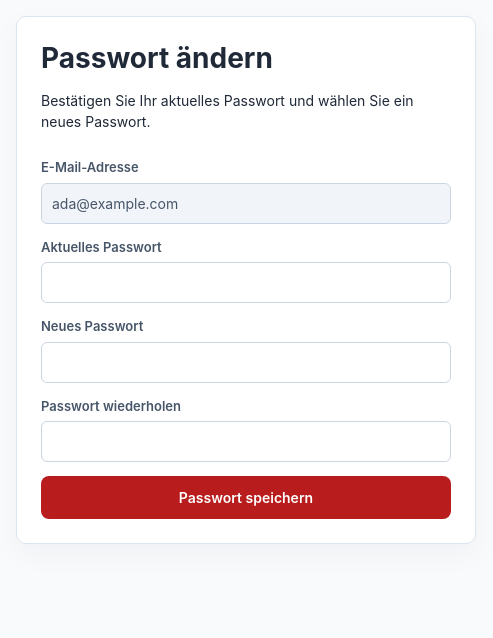
Test: shows an incorrect current-password error and leaves the form available
This screenshot has width=493, height=638.
In the password field labelled "Aktuelles Passwort": (246, 282) [41,262,451,303], type "WrongPassword123"
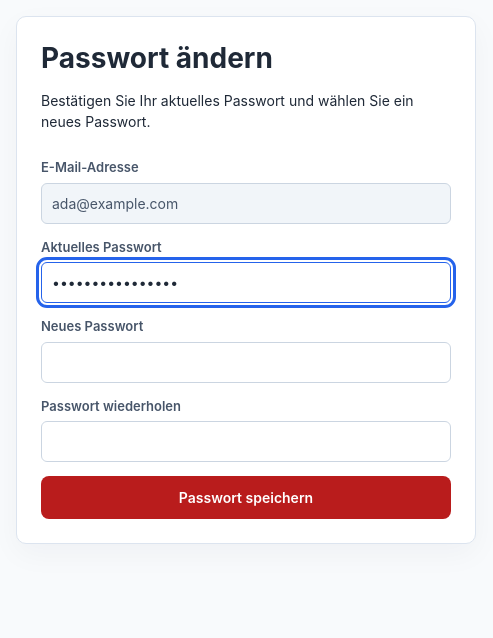
In the password field labelled "Neues Passwort": (246, 362) [41,342,451,382], type "NewPassword123"
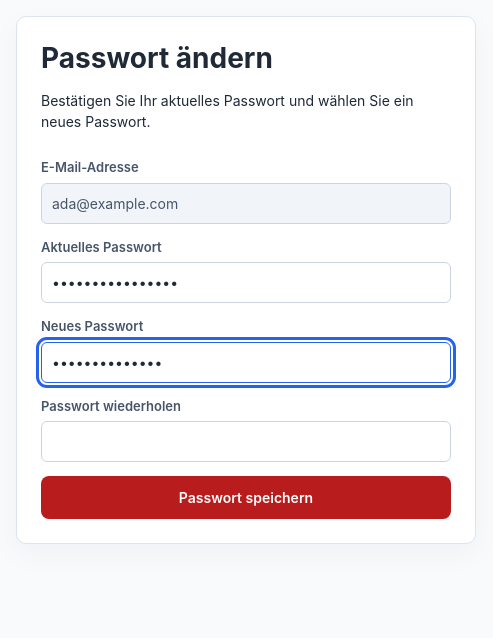
In the password field labelled "Passwort wiederholen": (246, 442) [41,421,451,462], type "NewPassword123"
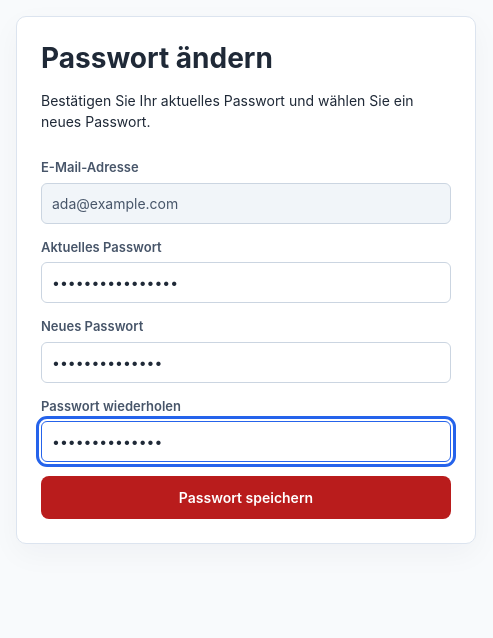
Click the button "Passwort speichern": (246, 498) [41,476,451,519]
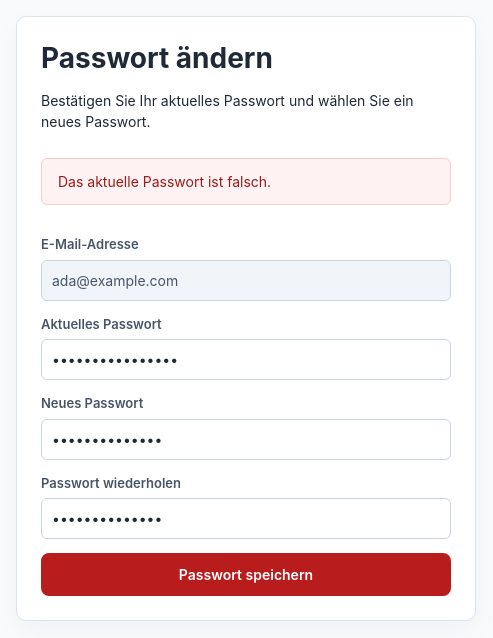
Expected: the button "Passwort speichern" is enabled, [41,553,451,596]
Now the message shows "aktuelle Passwort ist falsch", box [58,173,271,190]
